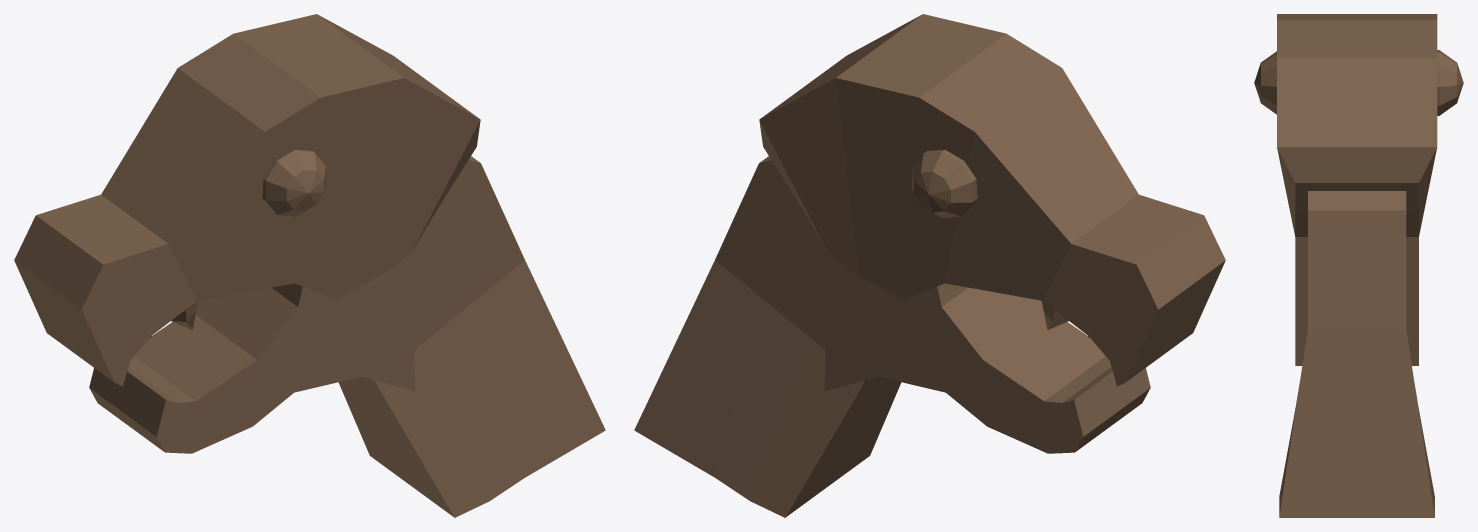
Rendered from SM_dragonhead_wooden_norse_01.fbx.
The picture shows the model from 3 angles, left to right: view 1: azimuth 30°, elevation 25°; view 2: azimuth 150°, elevation 25°; view 3: azimuth 270°, elevation 25°; orthographic projection. The views are drawn at different scales.
Visible parts, largest first — view 1: Object493; view 2: Object493; view 3: Object493.
Boxes of the visible parts, x1,y1,x2,y2 form: Object493: (14,14,605,517); Object493: (634,14,1225,517); Object493: (1254,14,1463,517).
Size of the model in its own units: 58.72 by 49.45 by 22.56.
